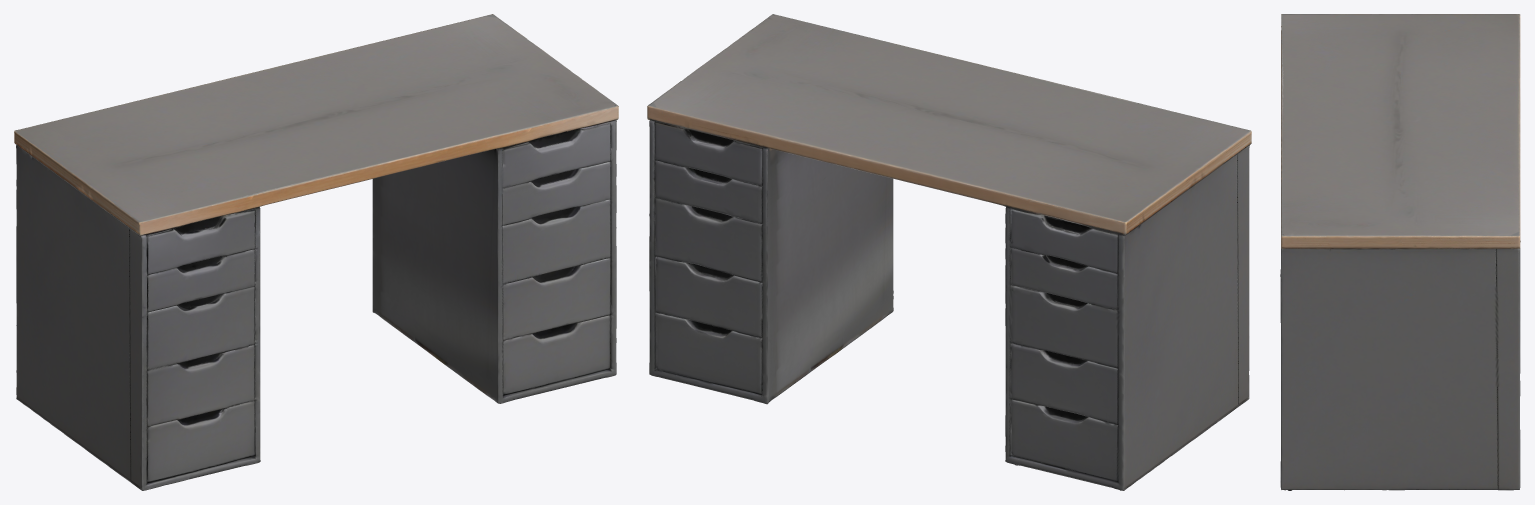
The model's file is mebel1.glb.
The picture shows the model from 3 angles, left to right: view 1: azimuth 30°, elevation 25°; view 2: azimuth 150°, elevation 25°; view 3: azimuth 270°, elevation 25°; orthographic projection. The views are drawn at different scales.
Bounding box in the file's own units: 2 × 1.09 × 0.9134.
Materials: 1 (1 with a texture image).
